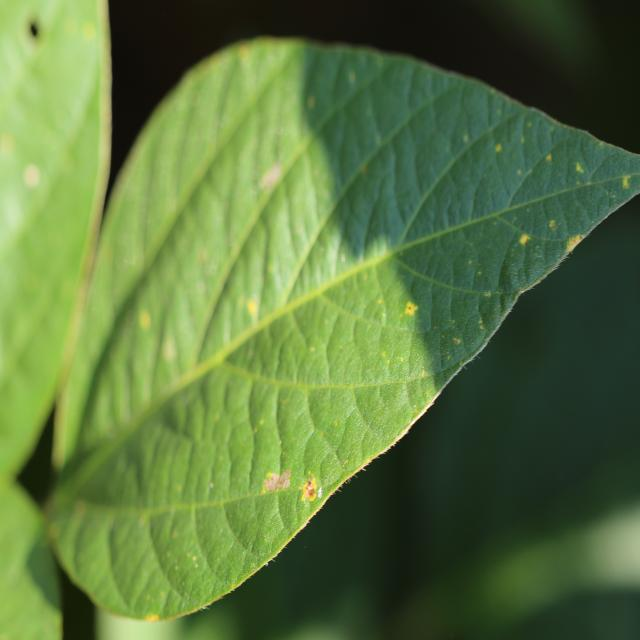Soybean: (0, 0, 640, 640)
downey_mildew: (60, 240, 396, 491), (46, 4, 118, 463), (406, 496, 640, 636), (193, 104, 331, 323), (363, 76, 498, 204), (55, 414, 209, 517), (143, 439, 236, 602), (472, 1, 618, 101), (290, 57, 408, 155), (198, 34, 342, 109), (4, 2, 99, 110), (449, 176, 542, 277), (195, 55, 241, 254), (293, 273, 420, 345), (103, 501, 178, 615), (152, 250, 207, 387), (246, 94, 295, 200), (381, 252, 481, 295), (23, 527, 63, 618), (529, 172, 636, 206), (50, 377, 75, 468), (476, 288, 509, 342), (579, 126, 619, 160)
